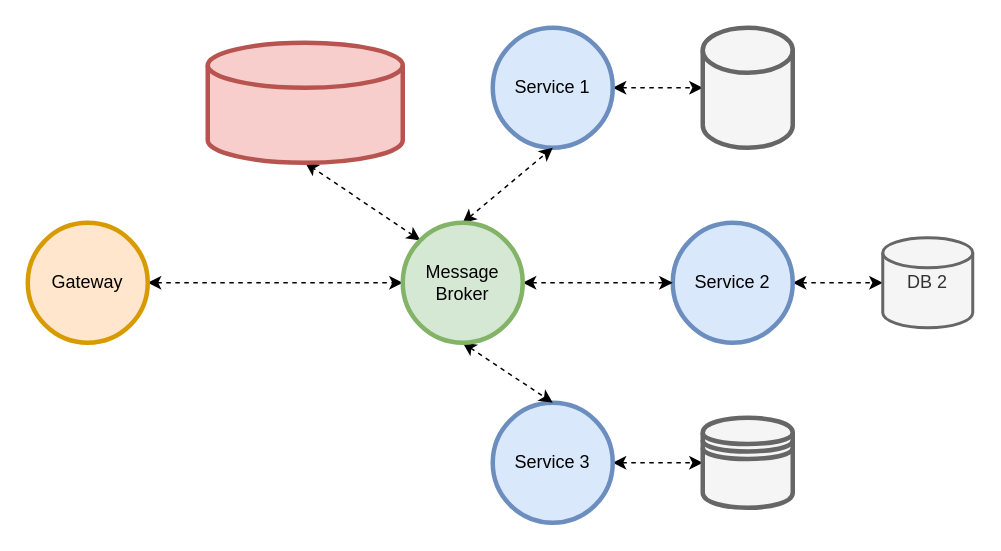
Some shapes in this 1001 by 551 pixel diagram are drawn without their labels. Here are the shapes that lost their labels. From the top down, the centre of each, then its label:
the point at 304,102: Central Data Store
the point at 747,87: DB 1
the point at 747,462: DB 3
